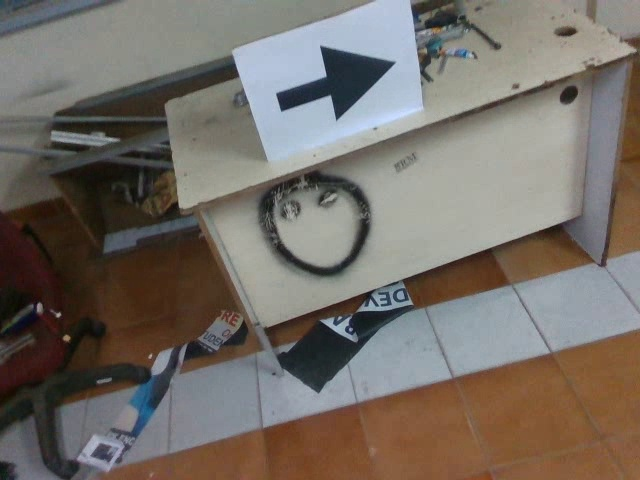Right: (266, 39, 399, 122)
